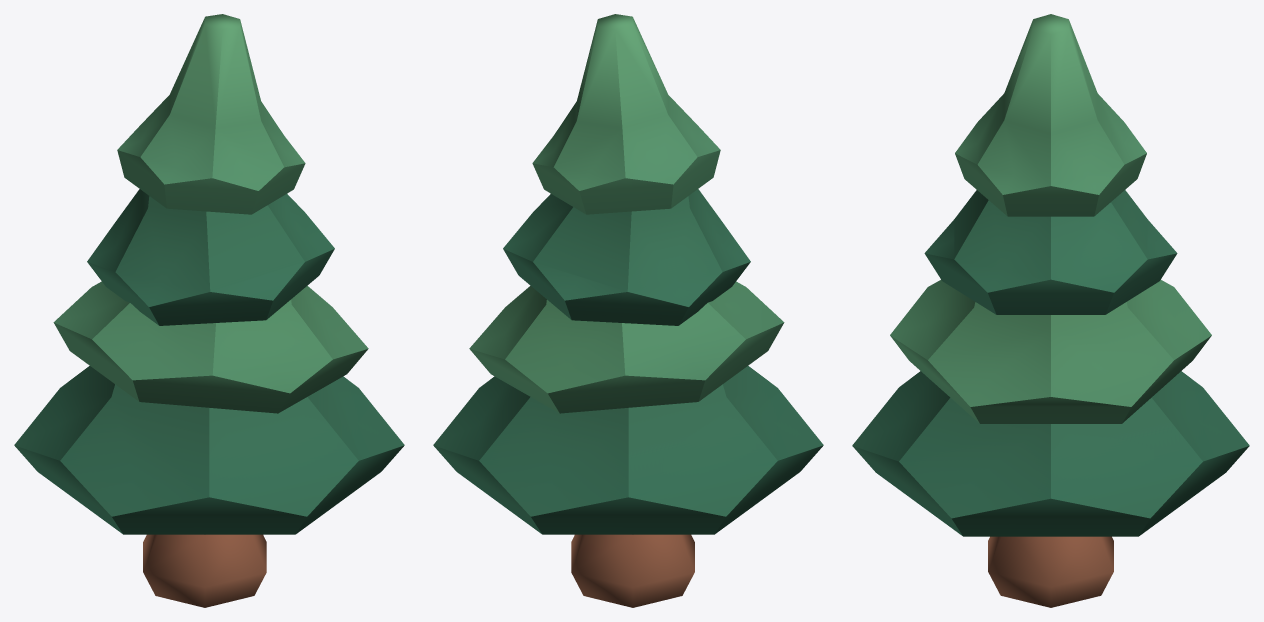
The model's file is pine-crooked.glb.
3 views of the same model, side by side, from view 1: azimuth 30°, elevation 25°; view 2: azimuth 150°, elevation 25°; view 3: azimuth 270°, elevation 25° (orthographic).
Visible parts, largest first — view 1: pine-crooked; view 2: pine-crooked; view 3: pine-crooked.
Boxes of the visible parts, x1,y1,x2,y2 form: pine-crooked: (14, 14, 404, 607); pine-crooked: (433, 14, 823, 607); pine-crooked: (852, 14, 1249, 607).
Bounding box in the file's own units: 2.79 × 5 × 3.17.
